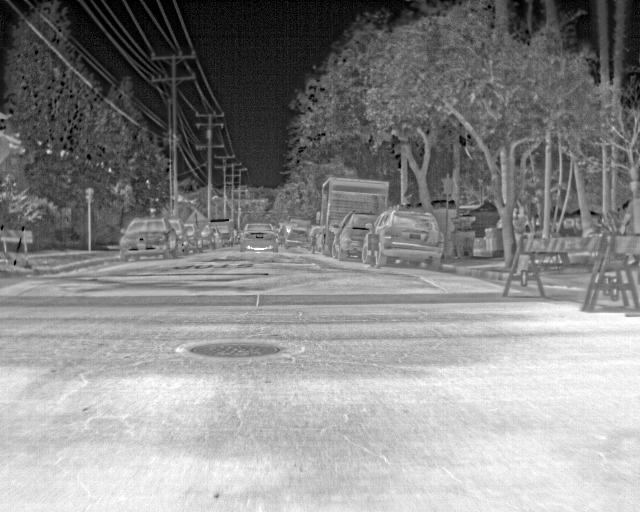bicycle: (361, 205, 443, 271), (117, 219, 175, 264), (331, 210, 379, 261), (240, 221, 279, 252), (282, 218, 311, 247), (181, 222, 201, 254)
